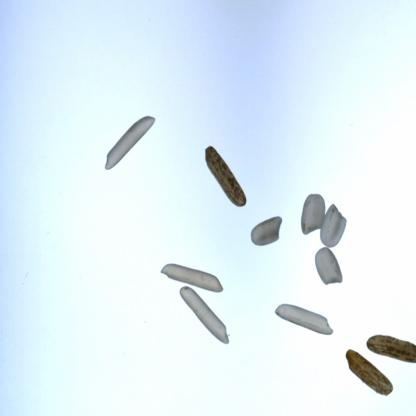Full: (91, 102, 159, 186), (192, 137, 255, 215), (174, 279, 230, 357), (338, 341, 398, 392), (271, 297, 336, 338), (153, 260, 227, 294), (353, 321, 416, 359), (236, 203, 282, 246), (306, 240, 346, 284), (316, 195, 349, 245), (296, 186, 326, 234)
